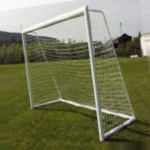goals: (20, 5, 136, 140)
